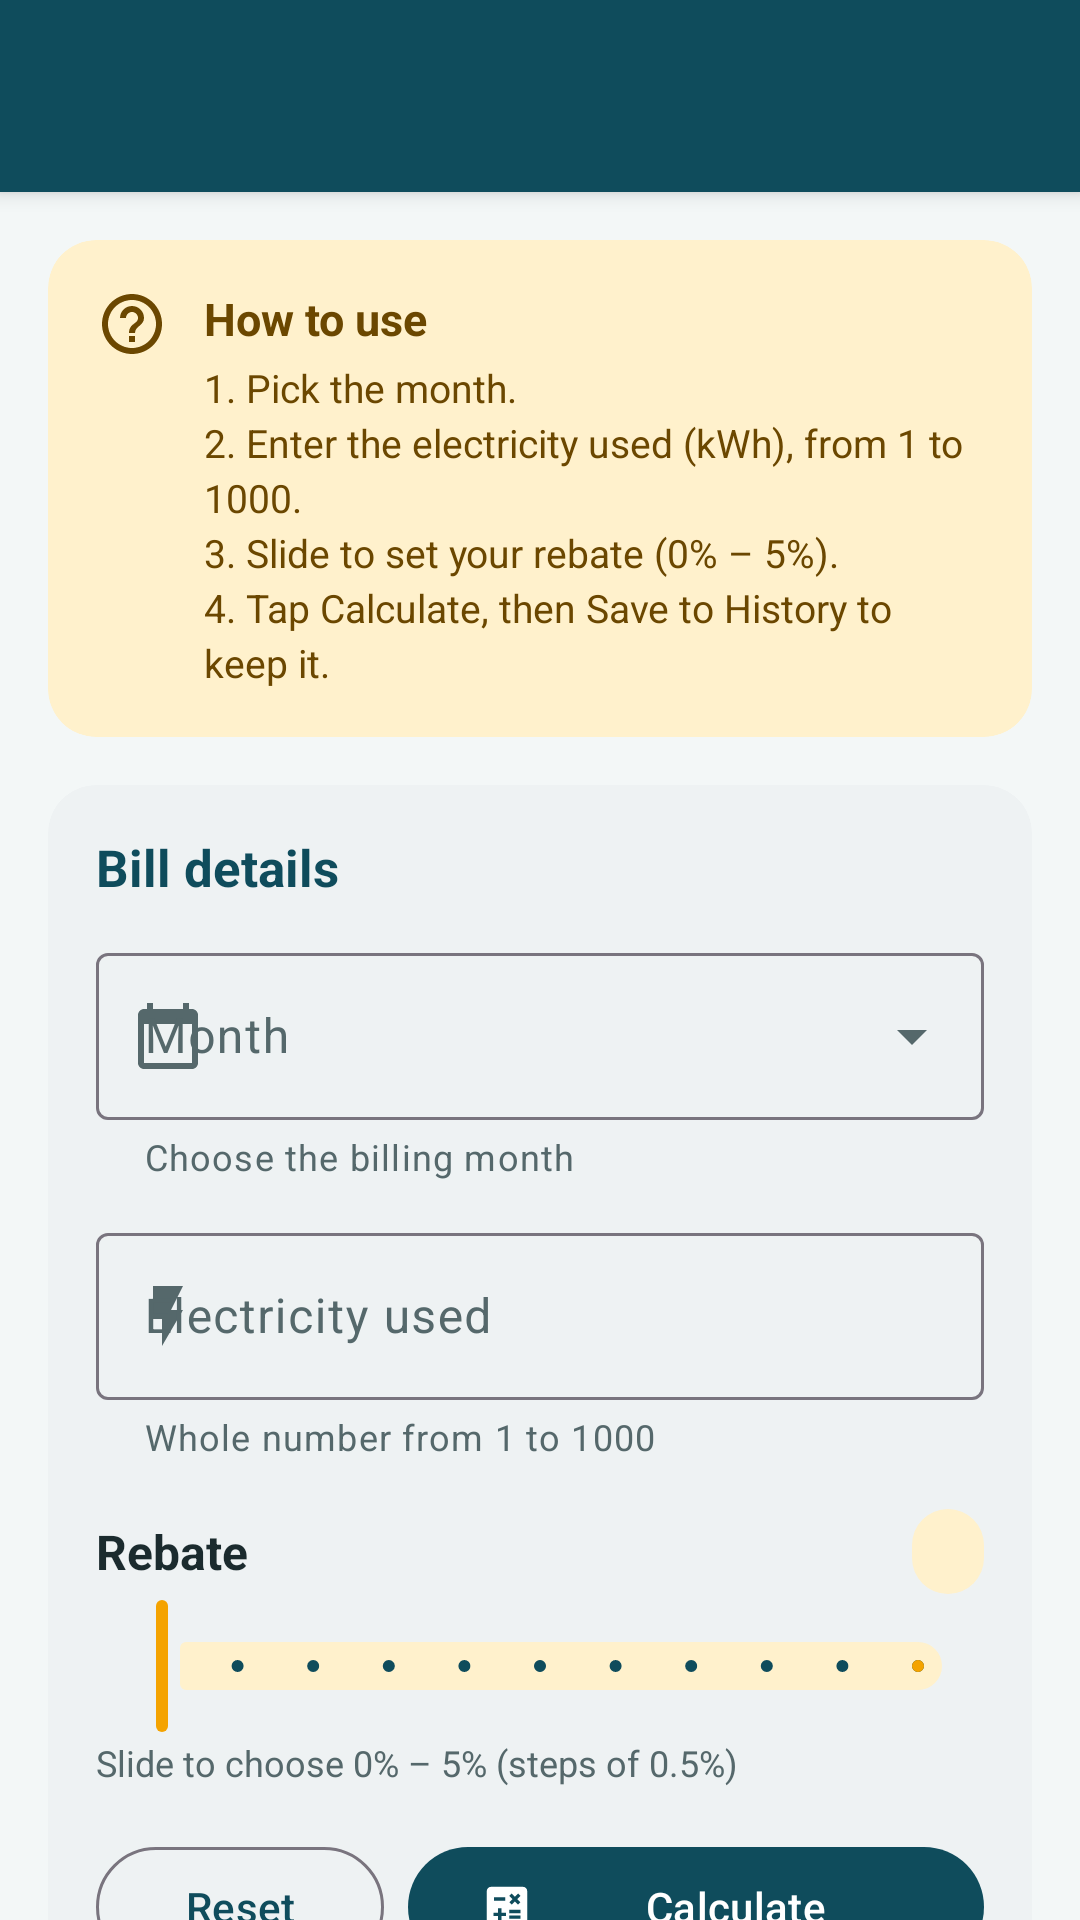

Named icons in this screenshot (1080*1920) and their bounding boxes, (x1, y1, x2, y2):
help: (102, 294, 162, 354)
